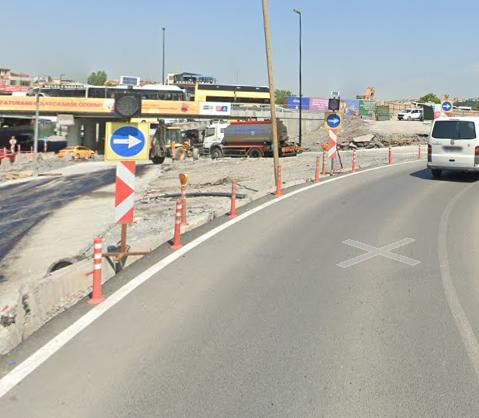turnright: (108, 123, 148, 158), (326, 113, 341, 127), (441, 101, 453, 112)
